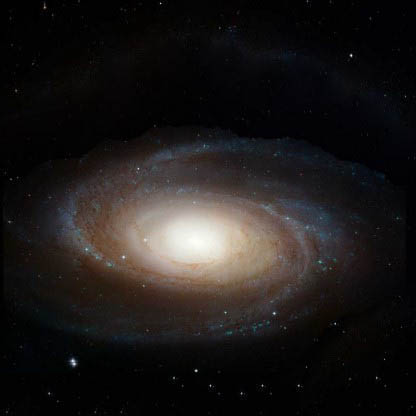Messier 81: (22, 128, 372, 381)
